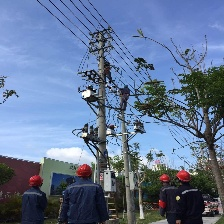helmet: (73, 163, 96, 180), (28, 175, 46, 189), (174, 170, 192, 183), (157, 173, 172, 183)
no-vest: (61, 180, 105, 224), (173, 188, 205, 224), (18, 189, 50, 224)
person: (62, 162, 111, 224), (174, 170, 209, 223), (20, 173, 51, 224), (153, 173, 184, 224)
